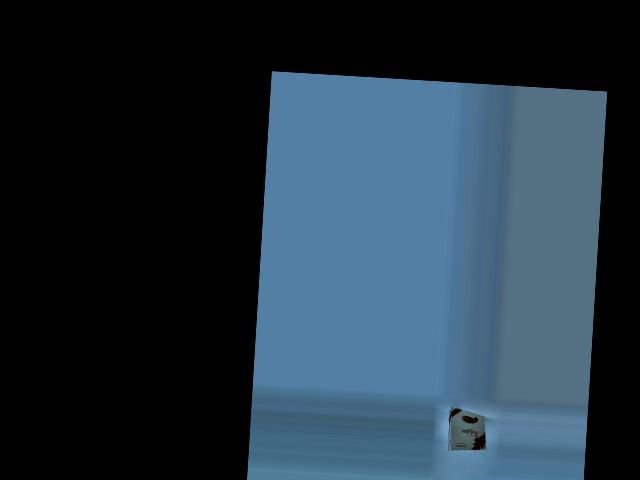chocolate: (438, 404, 489, 451)
